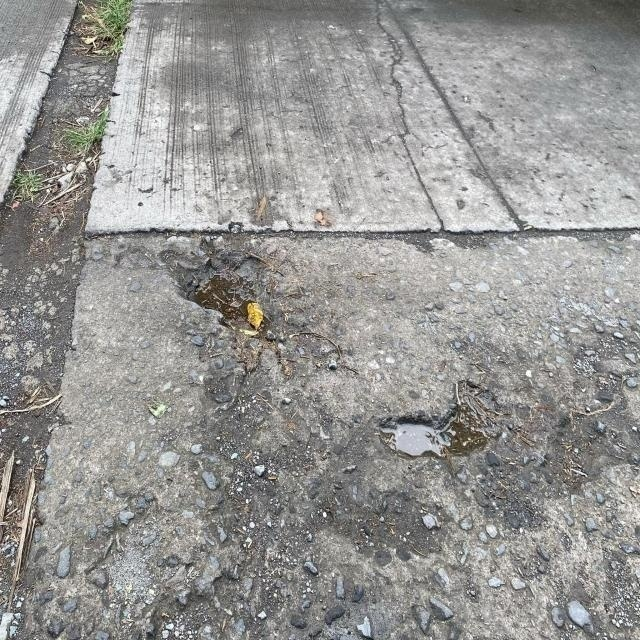pothole: (138, 236, 308, 395), (352, 384, 518, 494)
